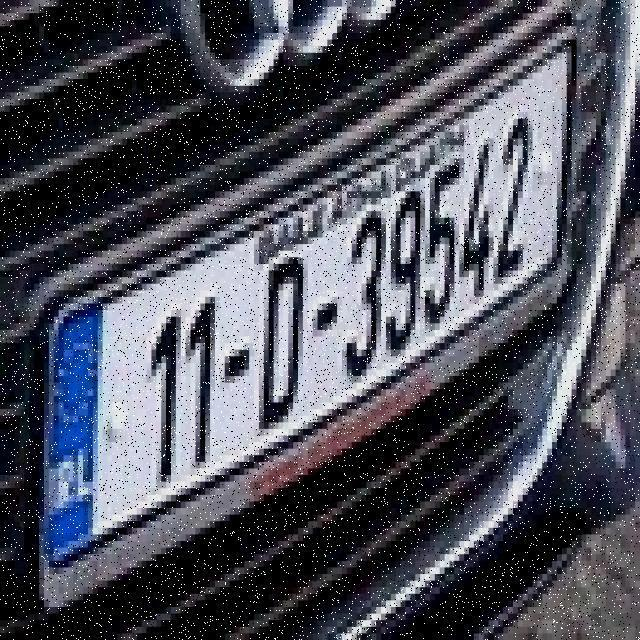LicensePlate: (21, 9, 605, 591)
